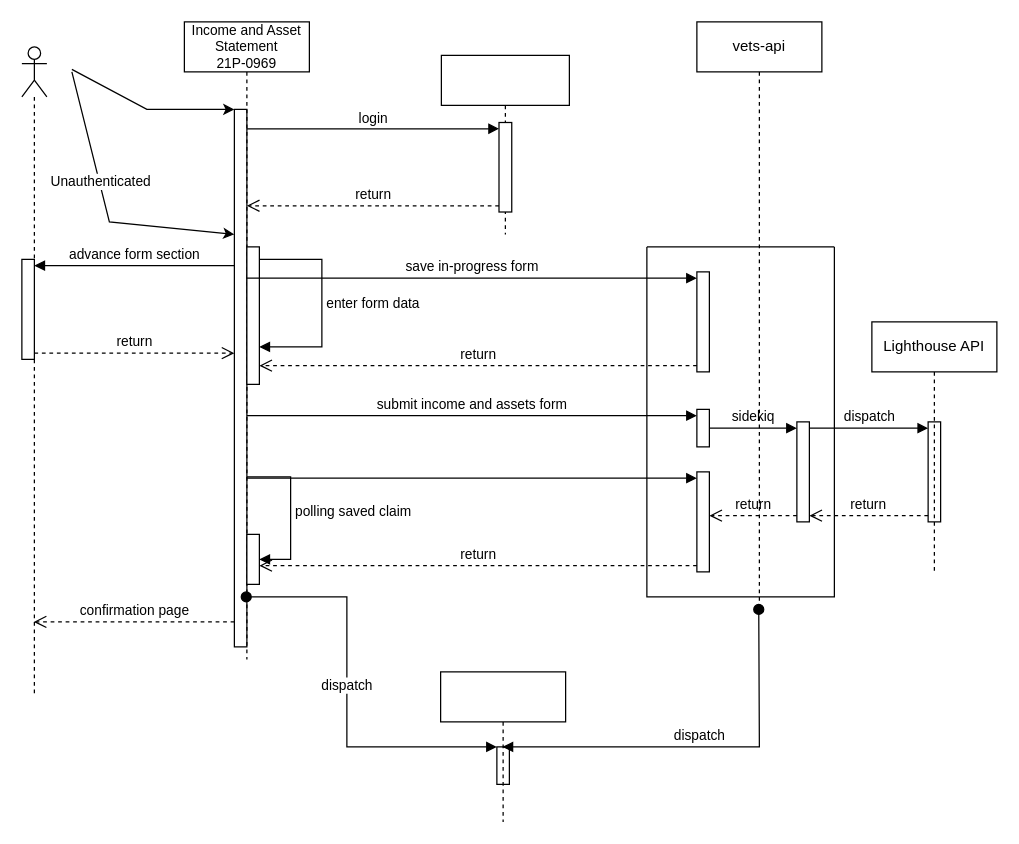
Some shapes in this 1019 by 844 pixel diagram are drawn without their labels. Each missing label, with the centre of its shape:
"Authentication" belongs at point 504,144.
"Error monitoring" belongs at point 502,746.
